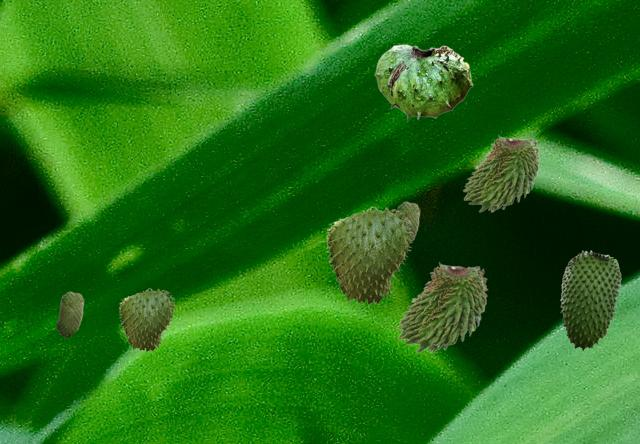guyabano: (326, 206, 413, 306), (396, 261, 487, 352), (374, 44, 472, 121), (560, 250, 620, 350), (462, 134, 539, 211), (119, 288, 175, 352), (56, 291, 83, 337), (396, 201, 419, 244)
